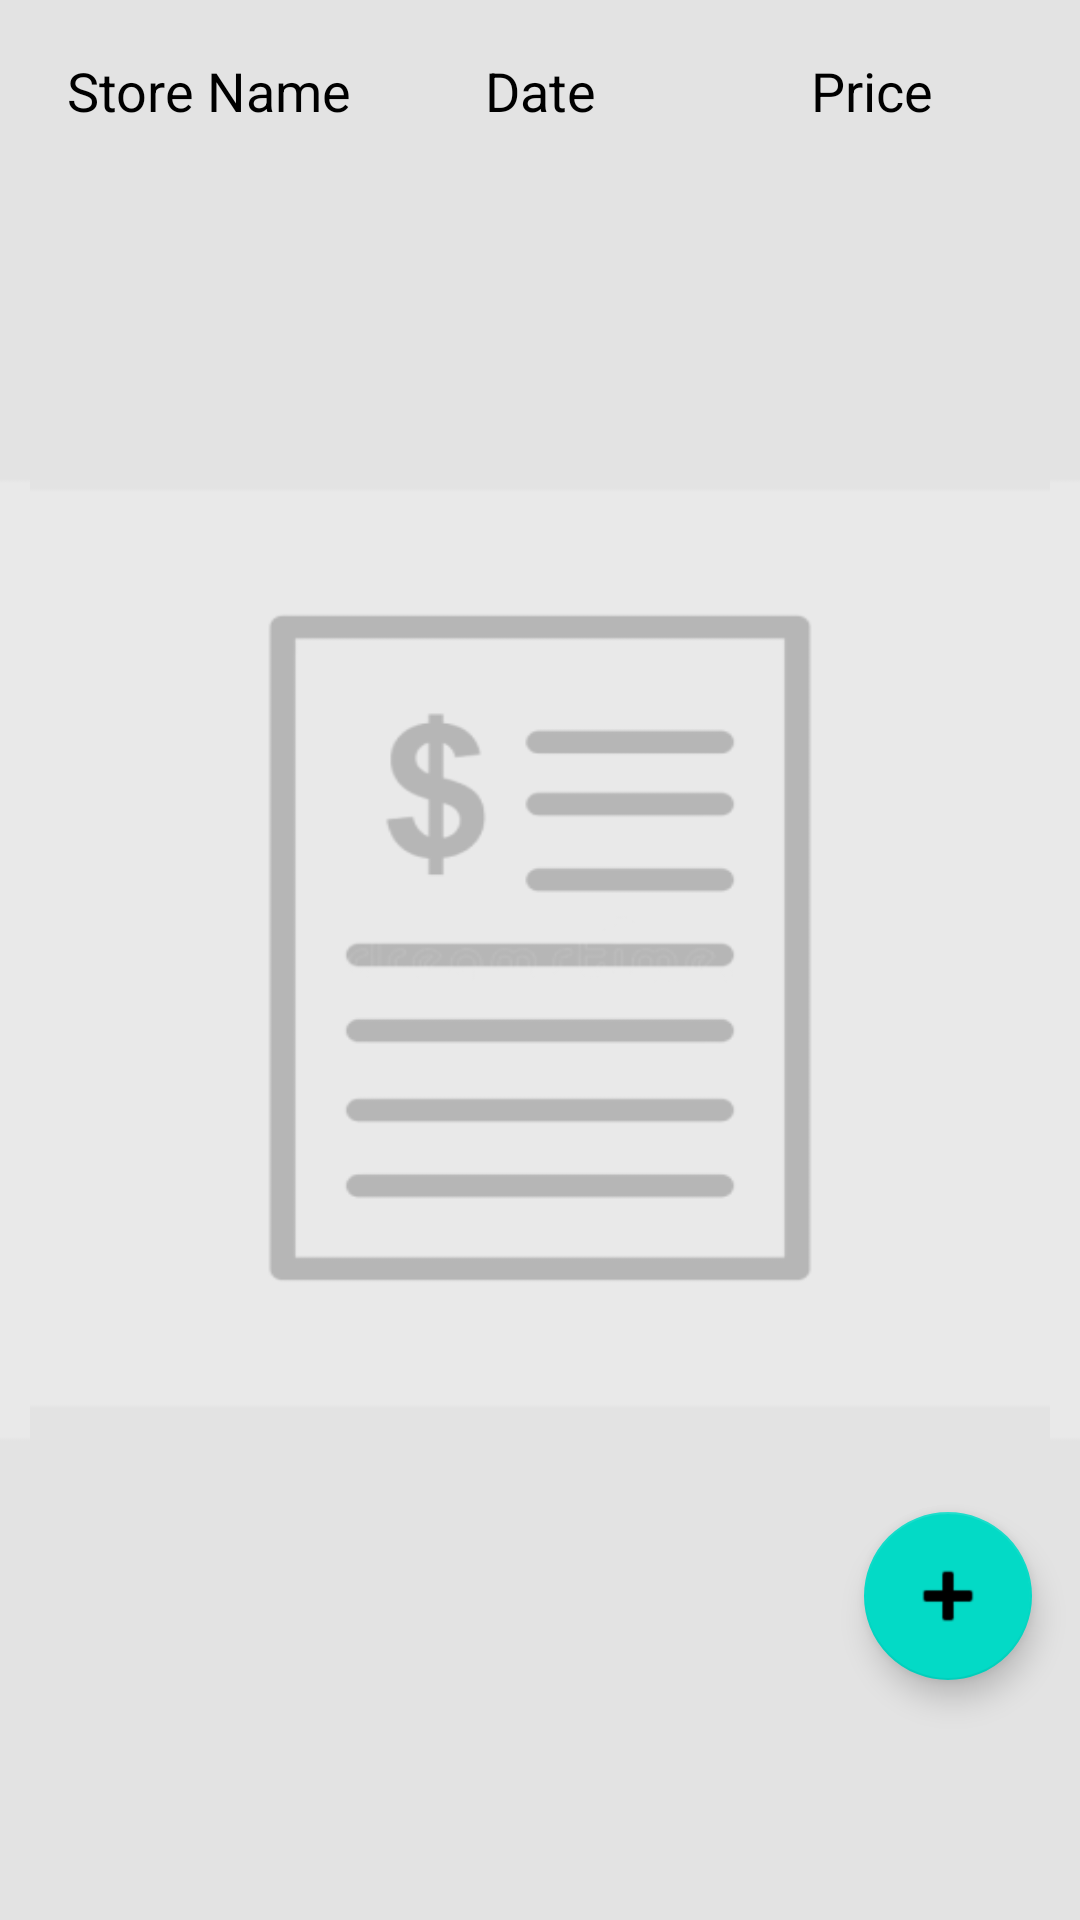

Icons on this 1080 × 1920 Android screen, each with its box as (x1, y1, x2, y2):
add: (864, 1512, 1032, 1680)
